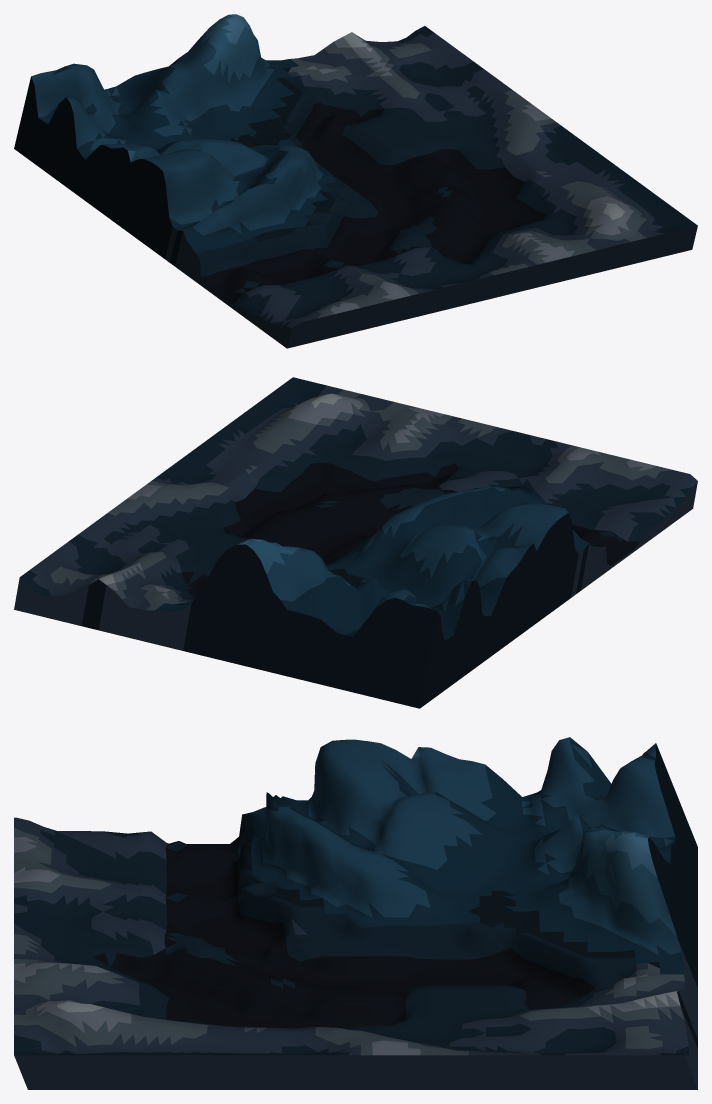
The model's file is gyges_brood_br.glb.
3 views of the same model, one above another, from view 1: azimuth 30°, elevation 25°; view 2: azimuth 150°, elevation 25°; view 3: azimuth 270°, elevation 25° (orthographic). The views are drawn at different scales.
Visible parts, largest first — view 1: gyges_brood_br; view 2: gyges_brood_br; view 3: gyges_brood_br.
Part boxes in pixels (x1=…): gyges_brood_br: x1=14, y1=14, x2=697, y2=348; gyges_brood_br: x1=14, y1=377, x2=697, y2=708; gyges_brood_br: x1=14, y1=737, x2=697, y2=1089.
Size of the model in its own units: 24 by 5.86 by 28.58.
